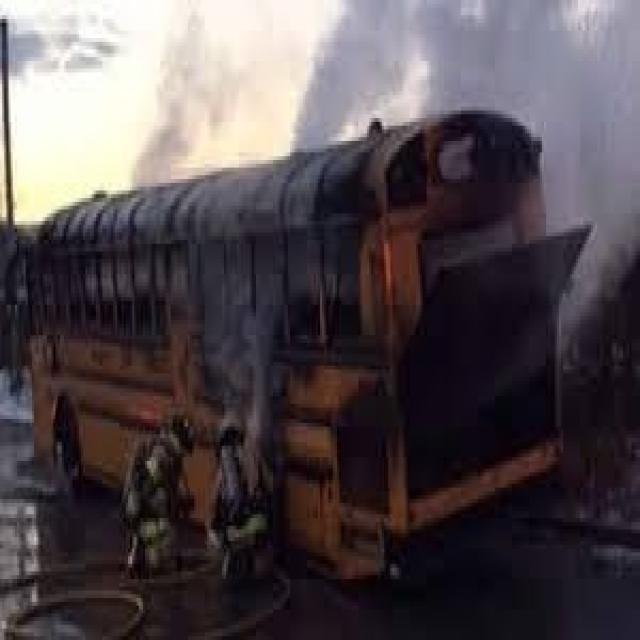smoke: (187, 268, 291, 440)
